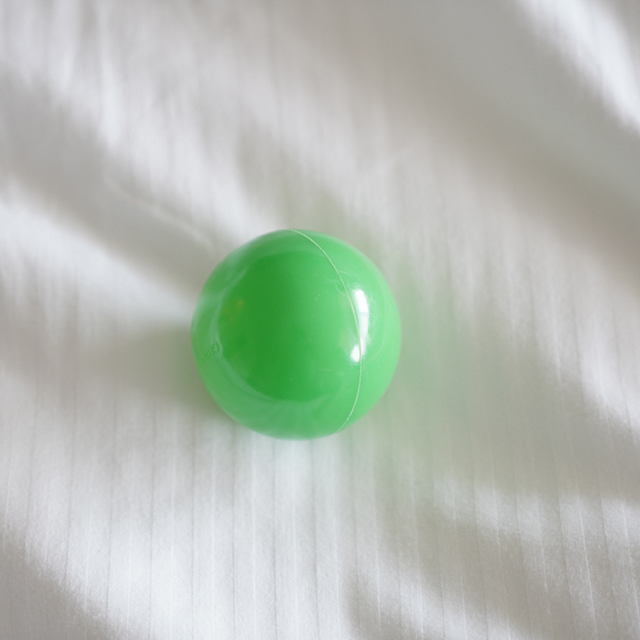Ball: (192, 230, 395, 439)
